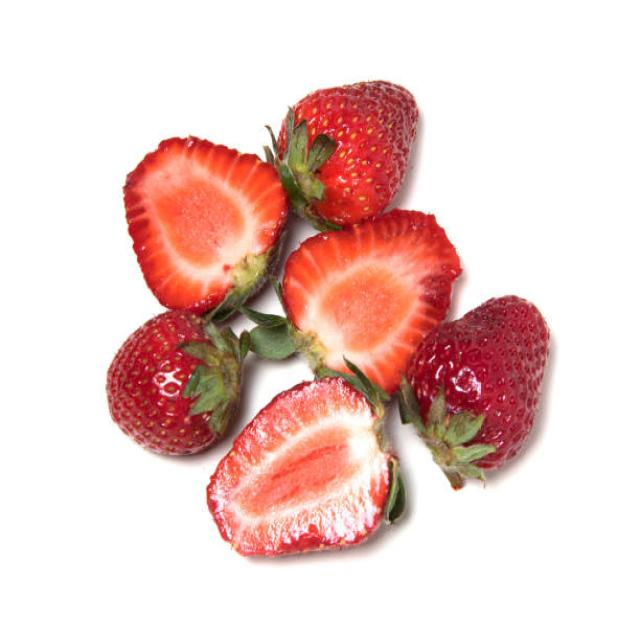Healthy Fruit: (205, 378, 391, 555), (406, 292, 550, 470), (278, 79, 419, 224), (105, 311, 238, 456)
